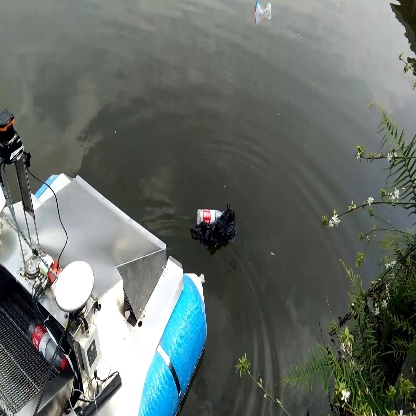plastic-bag: (193, 208, 240, 249)
